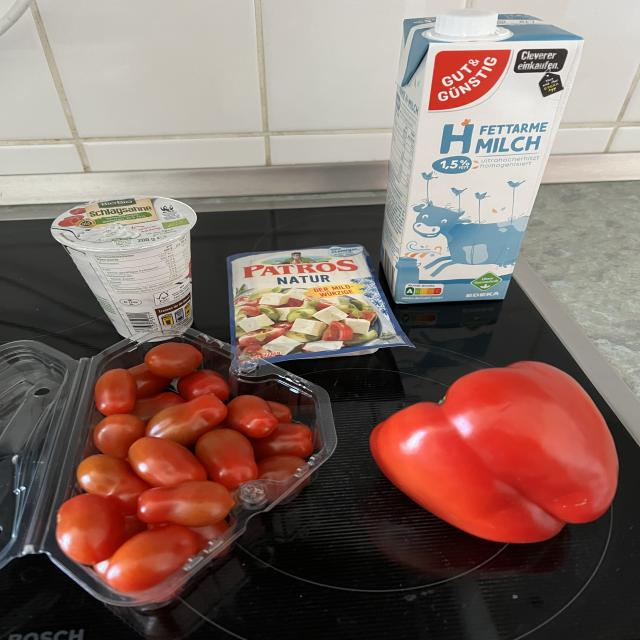bell_pepper: (370, 354, 618, 556)
tomato: (63, 340, 326, 595)
